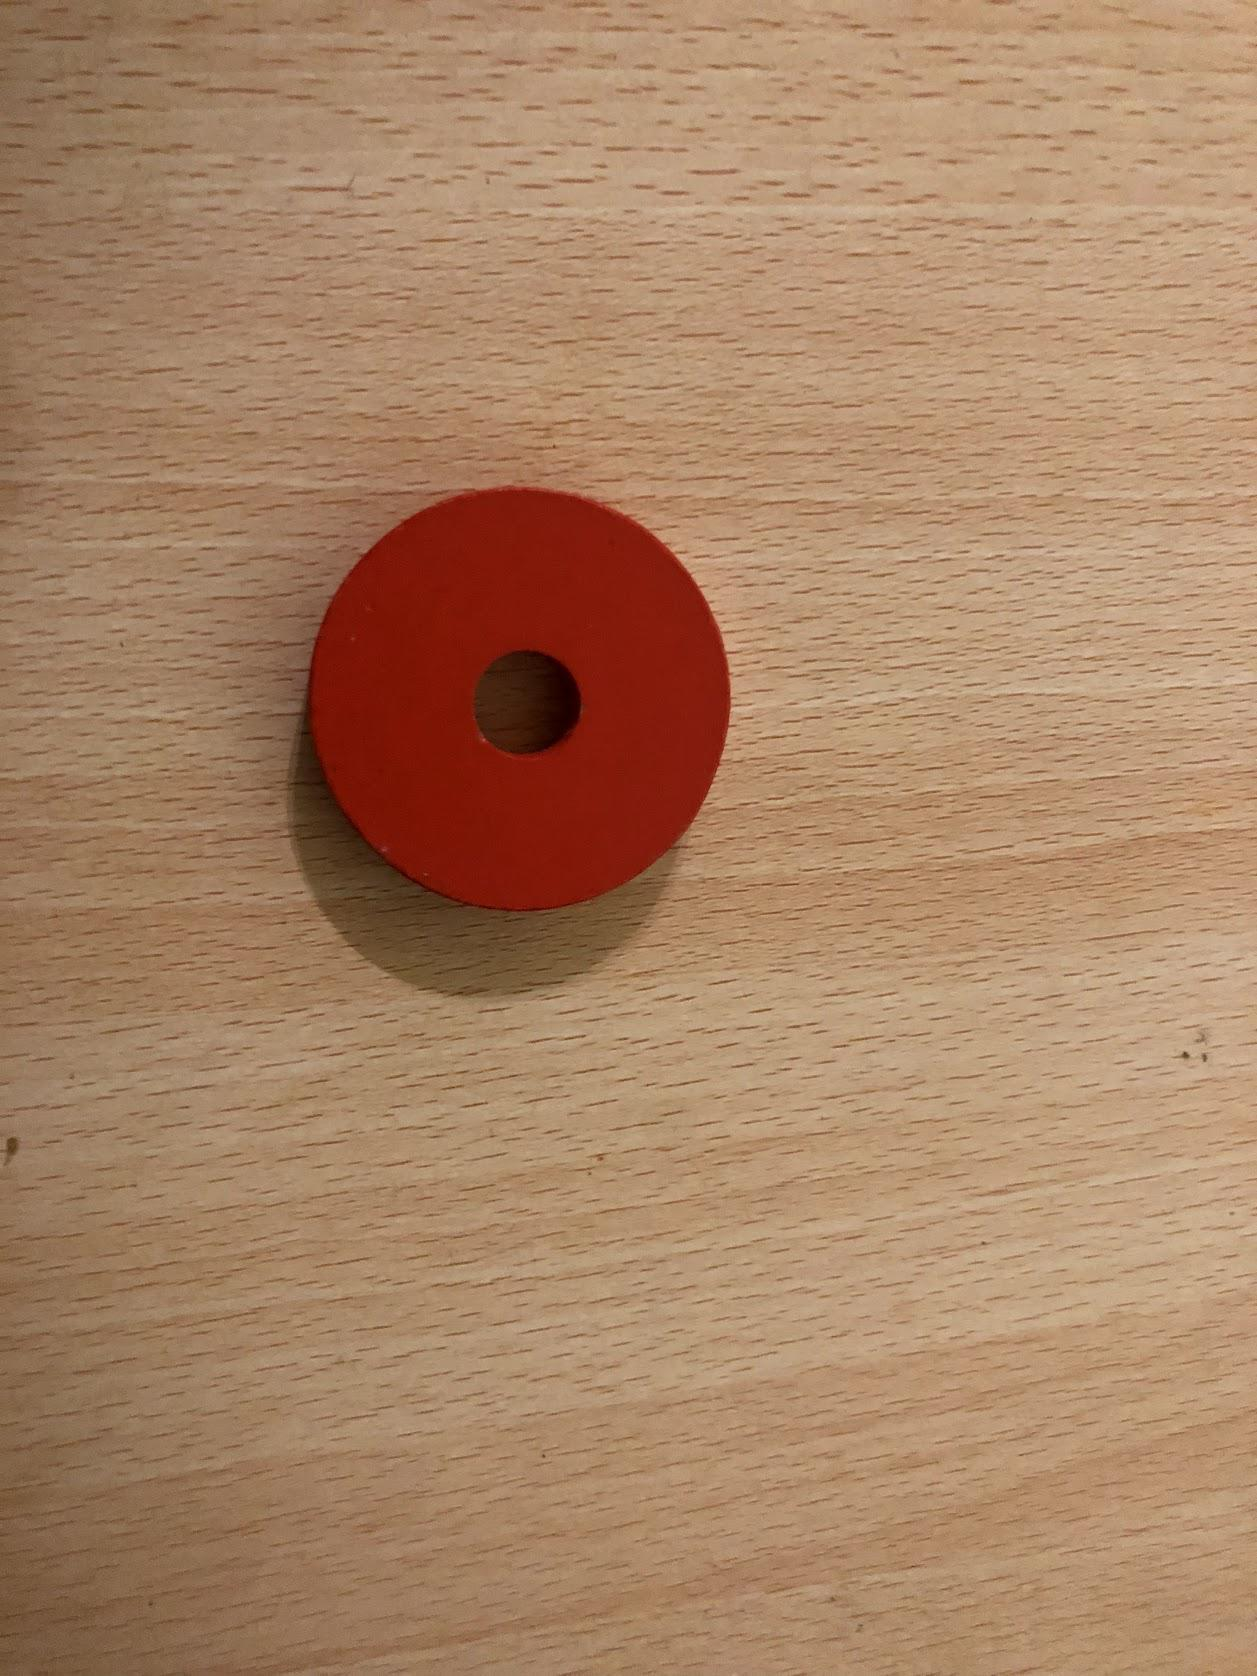Circle: (298, 488, 731, 915)
